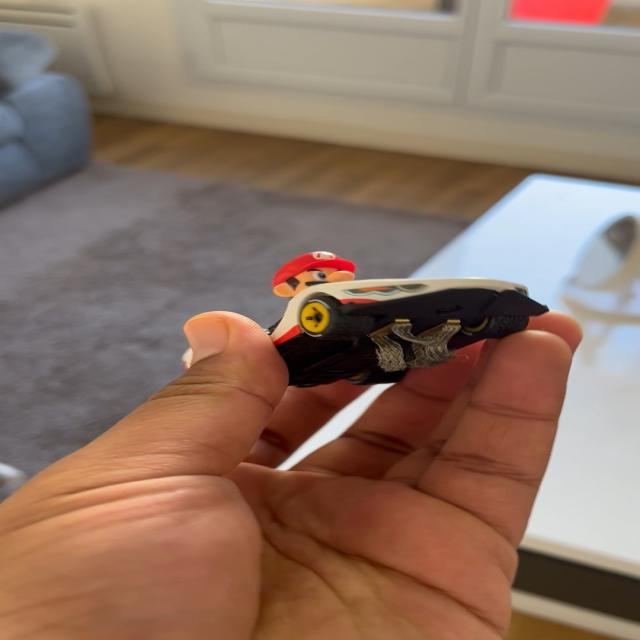mario: (208, 239, 556, 395)
